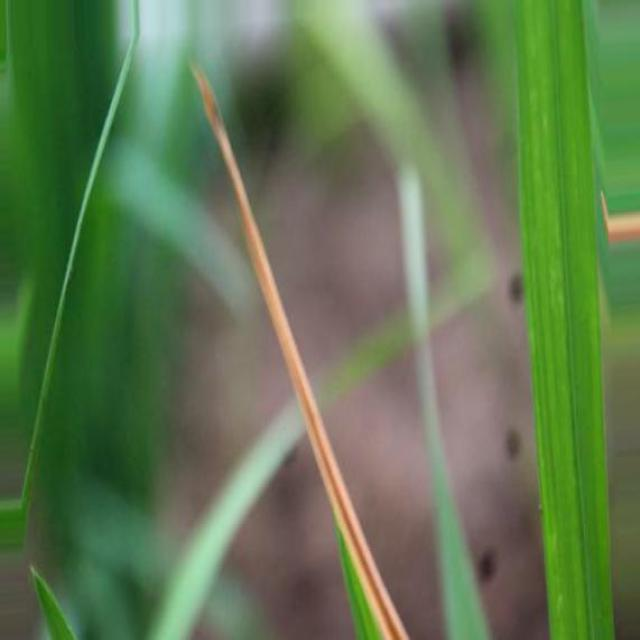Rice Tungro: (193, 66, 409, 639), (608, 212, 640, 242)
